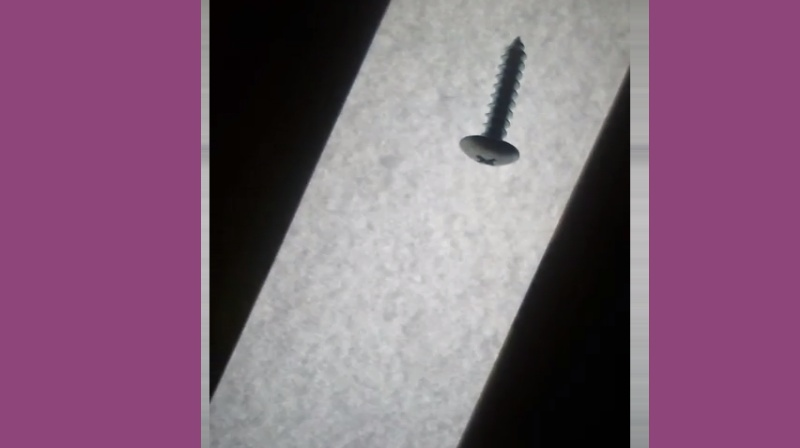S003: (453, 32, 529, 170)
